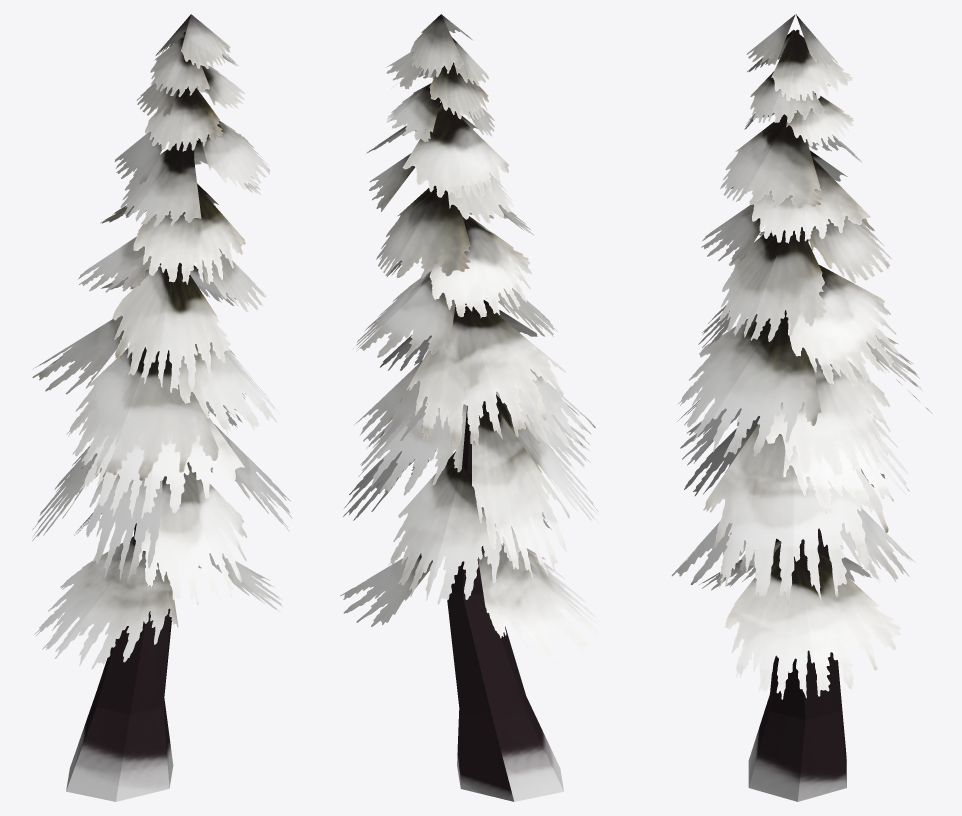
The model's file is Tree3.FBX.
3 views of the same model, side by side, from view 1: azimuth 30°, elevation 25°; view 2: azimuth 150°, elevation 25°; view 3: azimuth 270°, elevation 25° (orthographic). The views are drawn at different scales.
Parts seen in each view (by area): view 1: Object002; view 2: Object002; view 3: Object002.
Boxes of the visible parts, x1=… form: Object002: x1=32, y1=14, x2=292, y2=801; Object002: x1=340, y1=14, x2=604, y2=801; Object002: x1=671, y1=14, x2=931, y2=801.
Size of the model in its own units: 138 by 355 by 123.
1 material, 1 textured.
